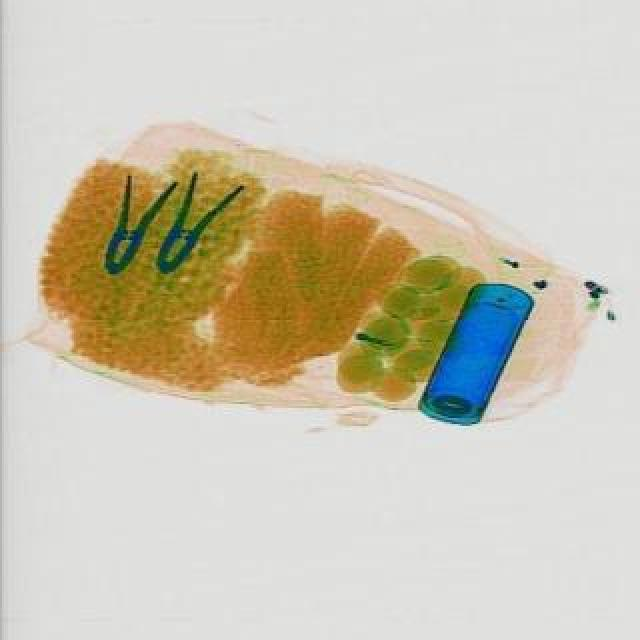wrench: (136, 162, 242, 282), (82, 164, 176, 280)
